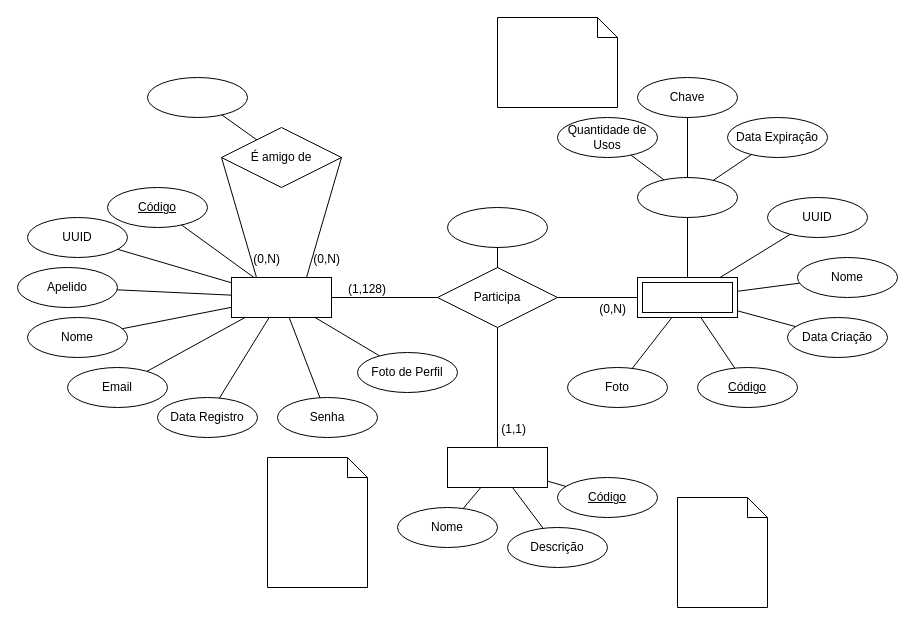
This 915x625 diagram has some shape labels left out. The shapes that lost their labels are listed below. From the top down, each one's centre as x and y in pixels, then its label:
point 557,62: Quantidade de Usos é a quantidade atual de usos restantes
point 197,97: Data da Amizade
point 687,197: Chave de Convite
point 497,227: Data de Entrada
point 281,297: Usuário
point 687,297: Grupo
point 497,467: Cargo
point 317,522: A senha guardada no banco de dados é, na verdade, o Salt e o Hash da mesma.
point 722,552: Cargos Possíveis: "Comum", "Administrador" e "Dono"
